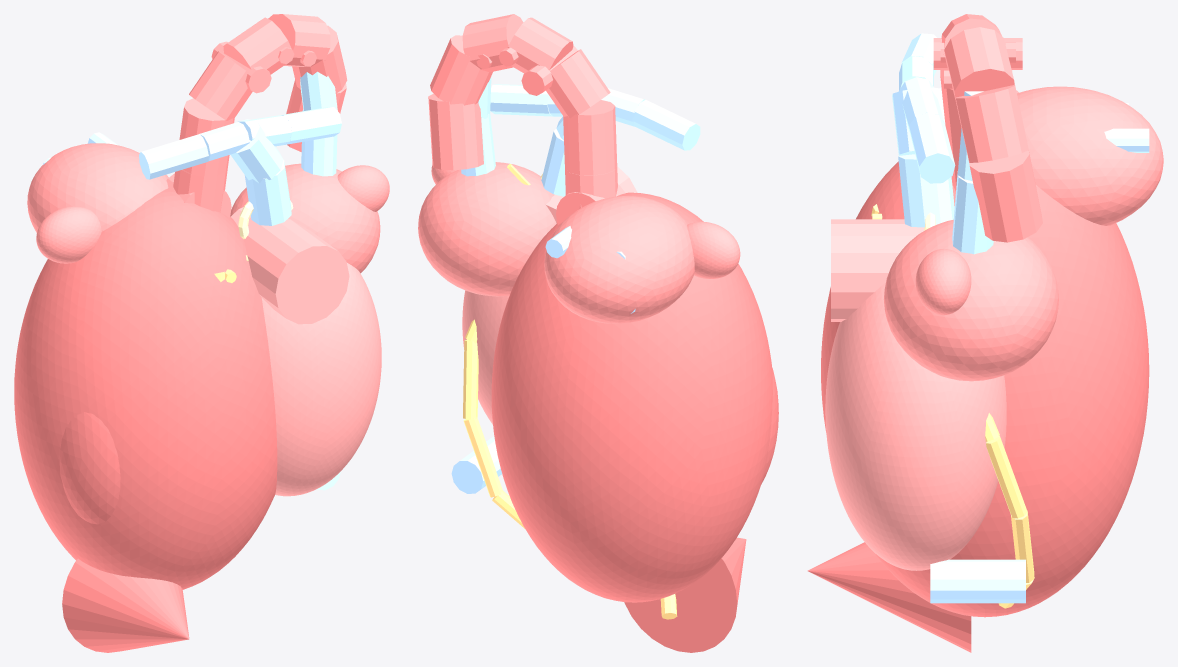
The model's file is heart.glb.
The picture shows the model from 3 angles, left to right: view 1: azimuth 30°, elevation 25°; view 2: azimuth 150°, elevation 25°; view 3: azimuth 270°, elevation 25°; orthographic projection. The views are drawn at different scales.
Parts seen in each view (by area): view 1: lv_body, rv_body, aorta, lv_apex, rv_infund, la, ra, lv_freewall, pt, lpa, laa, rpa (+3 smaller); view 2: lv_body, aorta, la, ra, lv_apex, rca, rv_body, lpa, laa, rpa, pt, ivc (+5 smaller); view 3: lv_body, rv_body, ra, aorta, la, rv_infund, lv_apex, ivc, pt, rpa, raa, rca (+4 smaller).
Boxes of the visible parts, <box> form: lv_body: <box>14,188,277,589</box>; rv_body: <box>261,263,381,496</box>; aorta: <box>173,14,347,212</box>; lv_apex: <box>62,558,189,652</box>; rv_infund: <box>231,207,349,324</box>; la: <box>27,143,168,232</box>; ra: <box>230,163,380,273</box>; lv_freewall: <box>59,412,120,524</box>; pt: <box>230,119,291,225</box>; lpa: <box>139,122,249,179</box>; laa: <box>36,206,101,263</box>; rpa: <box>238,106,341,146</box>; lv_body: <box>491,192,772,602</box>; aorta: <box>428,14,617,209</box>; la: <box>544,196,694,323</box>; ra: <box>418,162,556,296</box>; lv_apex: <box>624,537,746,652</box>; rca: <box>463,319,524,528</box>; rv_body: <box>462,290,509,424</box>; lpa: <box>601,88,700,150</box>; laa: <box>687,221,740,278</box>; rpa: <box>490,84,562,116</box>; pt: <box>541,117,565,196</box>; ivc: <box>451,436,502,493</box>; lv_body: <box>821,161,1149,617</box>; rv_body: <box>825,282,1006,570</box>; ra: <box>884,219,1058,381</box>; aorta: <box>940,14,1042,242</box>; la: <box>1017,86,1163,225</box>; rv_infund: <box>831,219,924,321</box>; lv_apex: <box>807,542,971,652</box>; ivc: <box>930,559,1025,603</box>; pt: <box>892,87,954,227</box>; rpa: <box>898,77,955,183</box>; raa: <box>915,249,971,315</box>; rca: <box>985,413,1034,608</box>.
Size of the model in its own units: 1.37 by 2.31 by 1.04.
